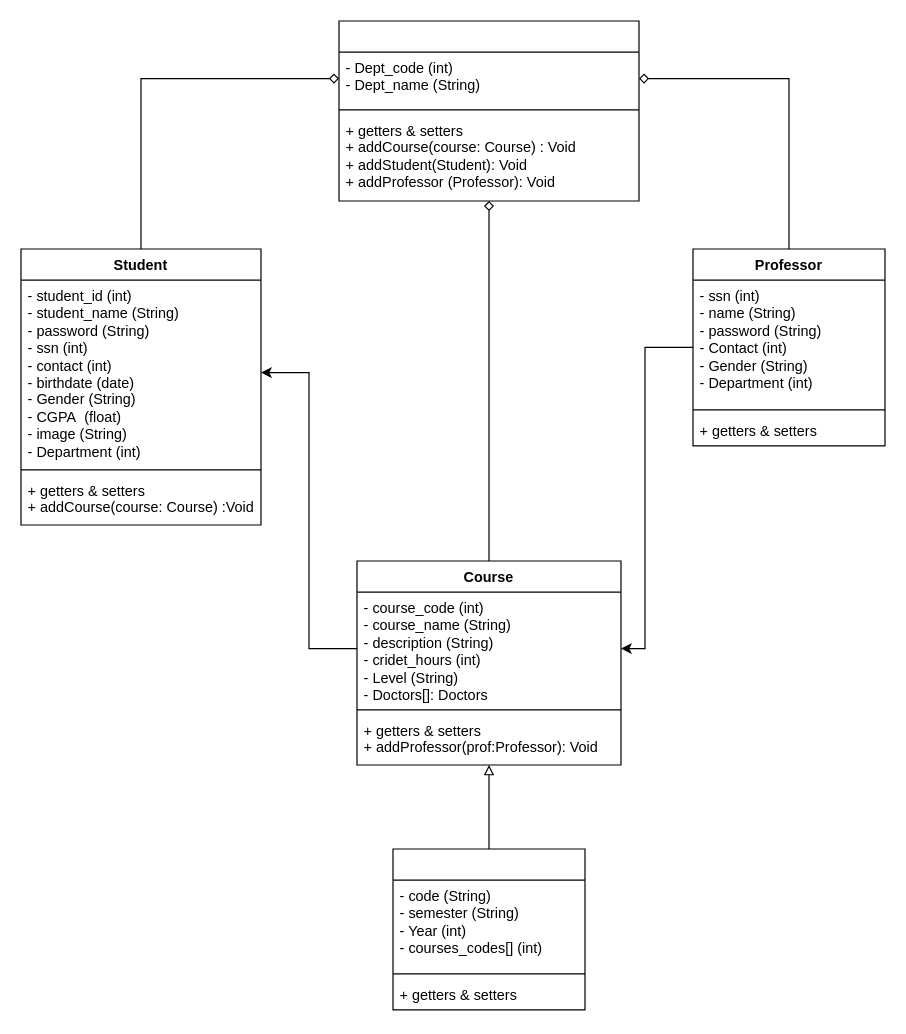
Image size: 906x1034. Some labels were removed from this diagram. Here are the shapes that lost their labels. From the top down, the box of each, then its label:
(338, 20, 639, 201): Department
(392, 848, 585, 1010): Semester course
